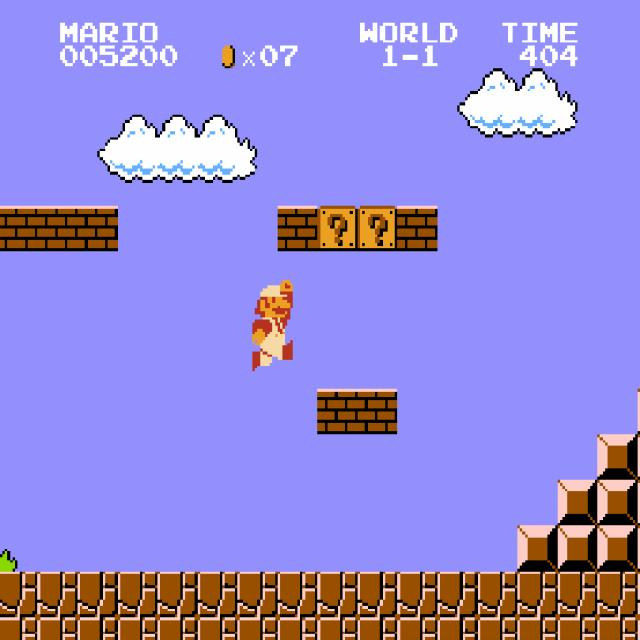brick_block: (37, 206, 78, 251), (77, 206, 118, 251), (277, 206, 318, 251), (317, 389, 358, 434), (357, 389, 398, 434), (397, 206, 438, 251), (0, 206, 37, 251)
fire_mario: (250, 277, 293, 371)
hard_block: (557, 480, 598, 526), (597, 434, 638, 480), (597, 480, 638, 526), (517, 526, 558, 571), (557, 526, 598, 571), (597, 526, 638, 571), (637, 388, 640, 434), (637, 525, 640, 571), (637, 434, 640, 479), (637, 480, 640, 525)
mystery_block: (317, 206, 358, 251), (357, 206, 398, 251)
undestructible_block: (37, 572, 78, 617), (77, 572, 118, 617), (117, 572, 158, 617), (157, 572, 198, 617), (197, 572, 238, 617), (237, 572, 278, 617), (277, 572, 318, 617), (317, 572, 358, 617), (357, 572, 398, 617), (397, 572, 438, 617), (437, 572, 478, 617), (477, 572, 518, 617), (517, 572, 558, 617), (557, 572, 598, 617), (597, 572, 638, 617), (0, 572, 37, 617), (37, 617, 78, 640), (77, 617, 118, 640), (117, 617, 158, 640), (157, 617, 198, 640), (197, 617, 238, 640), (237, 617, 278, 640), (277, 617, 318, 640), (317, 617, 358, 640), (357, 617, 398, 640), (397, 617, 438, 640), (437, 617, 478, 640), (477, 617, 518, 640), (517, 617, 558, 640), (557, 617, 598, 640), (597, 617, 638, 640), (0, 617, 37, 640), (637, 571, 640, 617), (637, 617, 640, 639)
